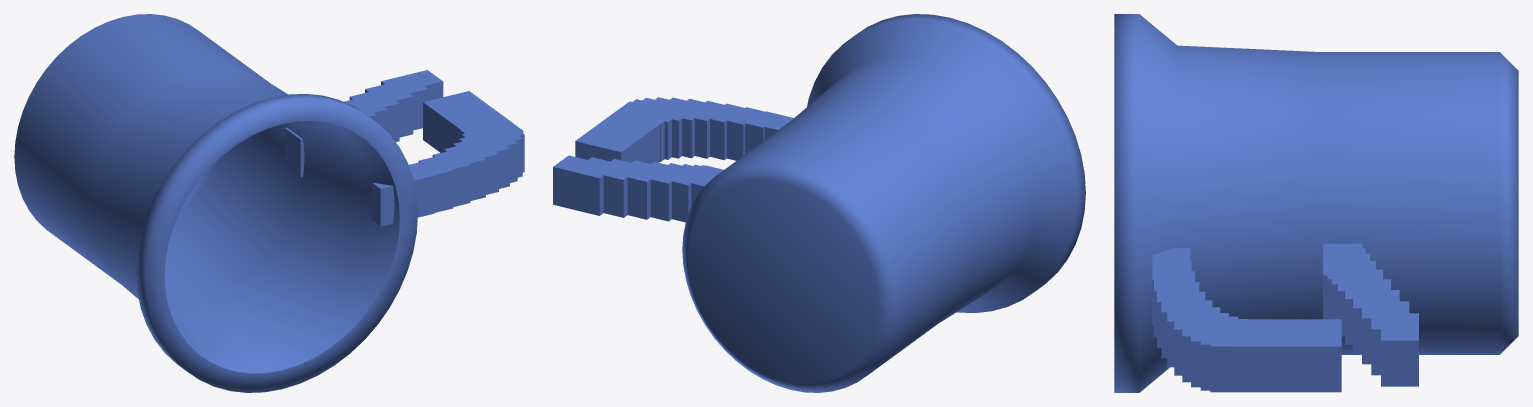
Rendered from mug.obj.
3 views of the same model, side by side, from view 1: azimuth 30°, elevation 25°; view 2: azimuth 150°, elevation 25°; view 3: azimuth 270°, elevation 25° (orthographic). The views are drawn at different scales.
Size of the model in its own units: 0.0921 by 0.06 by 0.064.
